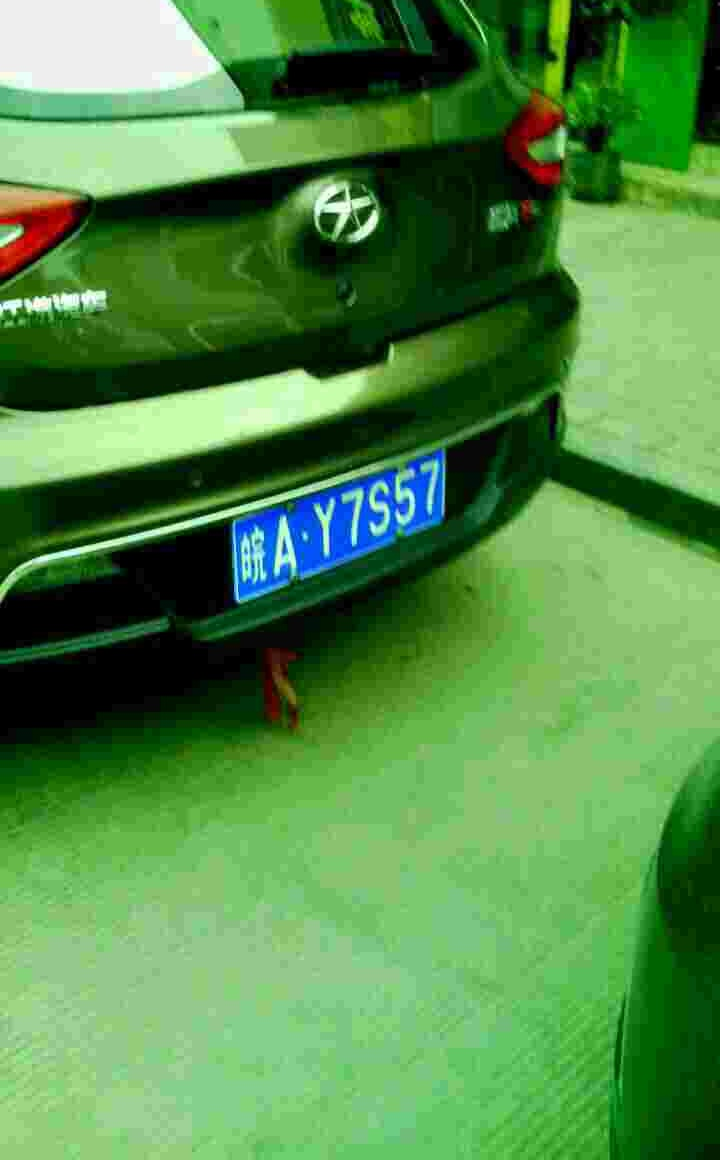license_plate: (222, 457, 460, 591)
